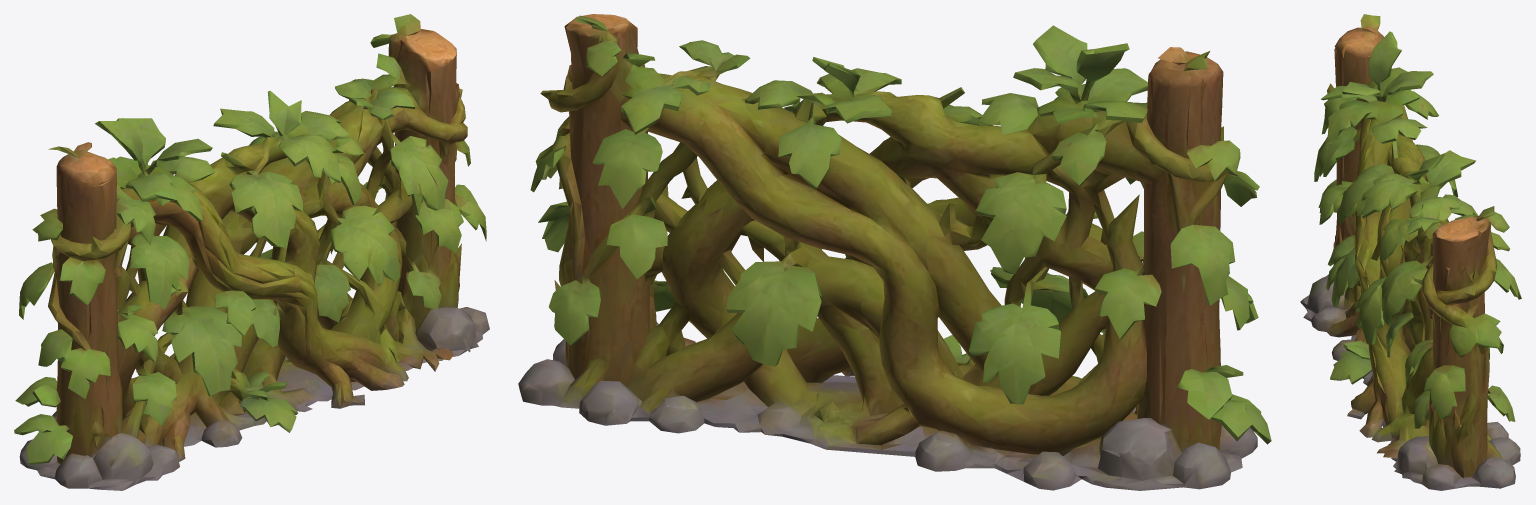
The model's file is valla_lianas.glb.
The picture shows the model from 3 angles, left to right: view 1: azimuth 30°, elevation 25°; view 2: azimuth 150°, elevation 25°; view 3: azimuth 270°, elevation 25°; orthographic projection. The views are drawn at different scales.
Parts seen in each view (by area): view 1: valla_lianas_malla; view 2: valla_lianas_malla; view 3: valla_lianas_malla.
Boxes of the visible parts, <box> form: valla_lianas_malla: <box>14,14,489,490</box>; valla_lianas_malla: <box>518,14,1271,490</box>; valla_lianas_malla: <box>1300,14,1521,490</box>.
Size of the model in its own units: 0.4331 by 0.2641 by 0.1869.
1 material, 1 textured.
